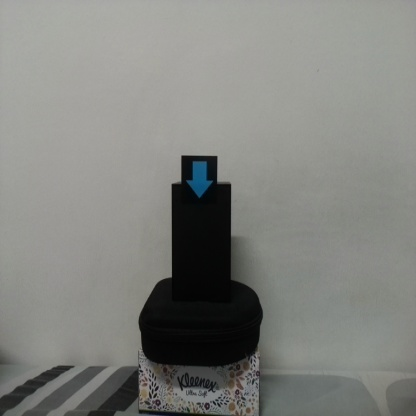id_2: (182, 155, 217, 205)
